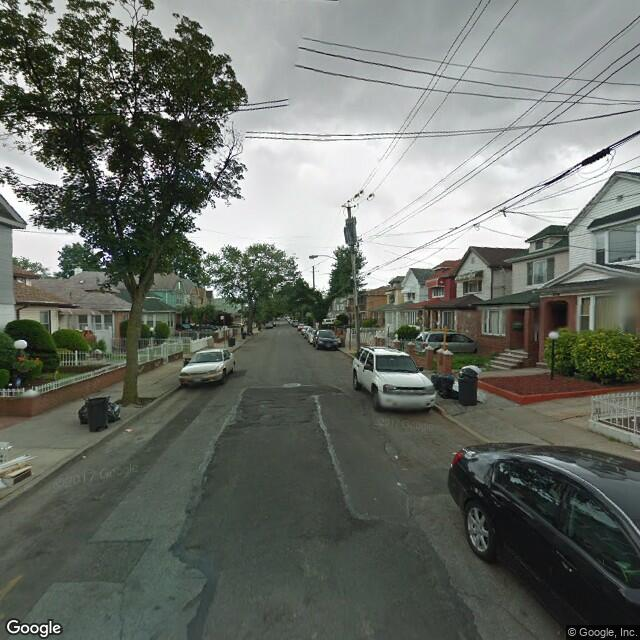litter: (1, 431, 36, 497), (426, 371, 456, 406), (106, 397, 132, 425)
